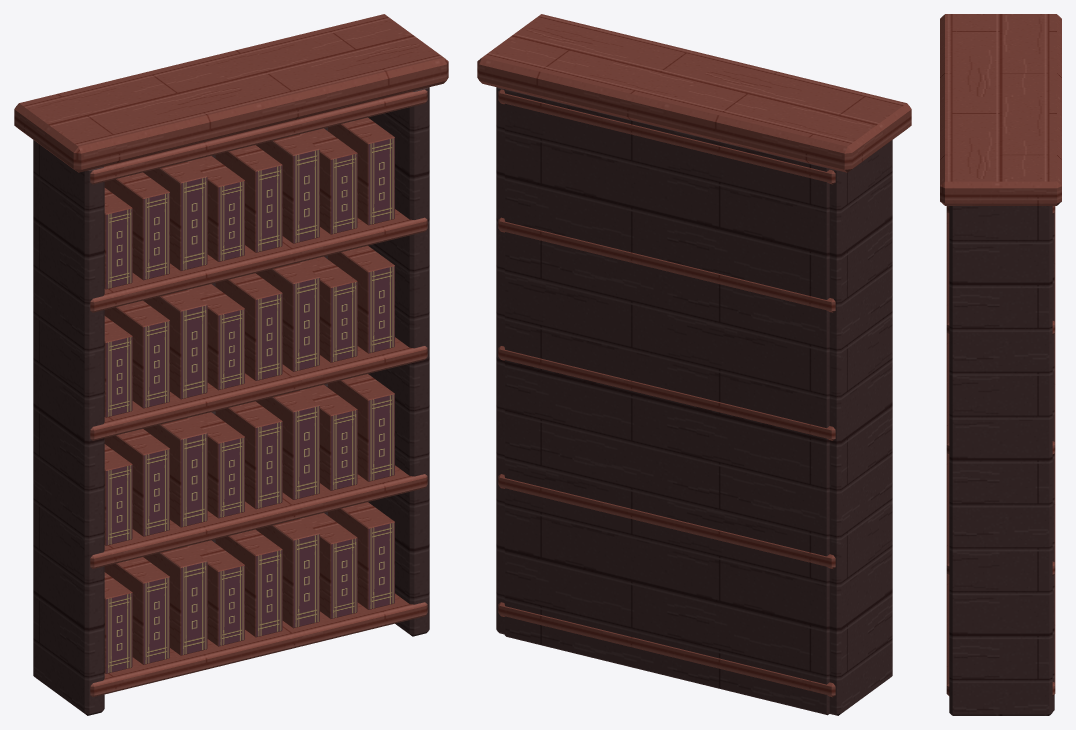
File: MD_29_Bookcase.fbx
The picture shows the model from 3 angles, left to right: view 1: azimuth 30°, elevation 25°; view 2: azimuth 150°, elevation 25°; view 3: azimuth 270°, elevation 25°; orthographic projection. The views are drawn at different scales.
Parts seen in each view (by area): view 1: MD_29_Bookcase_upright, MD_29_Bookcase_ornamental_crown, MD_29_Bookcase_upright.001, MD_29_Bookcase_shelf, MD_29_Bookcase_shelf.001, MD_29_Bookcase_shelf.002, MD_29_Bookcase_shelf.003, MD_29_Bookcase_shelf.004, MD_29_Bookcase_individual_book.012, MD_29_Bookcase_individual_book.004, MD_29_Bookcase_individual_book.020, MD_29_Bookcase_individual_book.028 (+28 smaller); view 2: MD_29_Bookcase_back, MD_29_Bookcase_upright, MD_29_Bookcase_ornamental_crown, MD_29_Bookcase_upright.001, MD_29_Bookcase_shelf.004, MD_29_Bookcase_shelf.001, MD_29_Bookcase_shelf, MD_29_Bookcase_shelf.003, MD_29_Bookcase_shelf.002; view 3: MD_29_Bookcase_upright.001, MD_29_Bookcase_ornamental_crown, MD_29_Bookcase_back, MD_29_Bookcase_shelf.001, MD_29_Bookcase_shelf, MD_29_Bookcase_shelf.002, MD_29_Bookcase_shelf.003.
Boxes of the visible parts, x1,y1,x2,y2 form: MD_29_Bookcase_upright: (33,140,104,715); MD_29_Bookcase_ornamental_crown: (14,14,448,172); MD_29_Bookcase_upright.001: (368,87,429,636); MD_29_Bookcase_shelf: (90,593,427,697); MD_29_Bookcase_shelf.001: (90,465,427,568); MD_29_Bookcase_shelf.002: (90,337,427,440); MD_29_Bookcase_shelf.003: (90,209,427,312); MD_29_Bookcase_shelf.004: (90,89,427,184); MD_29_Bookcase_individual_book.012: (215,401,282,509); MD_29_Bookcase_individual_book.004: (215,529,282,637); MD_29_Bookcase_individual_book.020: (215,273,282,380); MD_29_Bookcase_individual_book.028: (215,145,282,252); MD_29_Bookcase_back: (504,89,829,715); MD_29_Bookcase_upright: (829,140,892,715); MD_29_Bookcase_ornamental_crown: (477,14,911,172); MD_29_Bookcase_upright.001: (496,87,504,634); MD_29_Bookcase_shelf.004: (498,89,835,184); MD_29_Bookcase_shelf.001: (498,474,835,568); MD_29_Bookcase_shelf: (498,602,835,697); MD_29_Bookcase_shelf.003: (498,217,835,312); MD_29_Bookcase_shelf.002: (498,346,835,440); MD_29_Bookcase_upright.001: (949,206,1052,715); MD_29_Bookcase_ornamental_crown: (940,14,1061,205); MD_29_Bookcase_back: (1052,213,1054,711); MD_29_Bookcase_shelf.001: (946,453,1055,575); MD_29_Bookcase_shelf: (946,574,1055,695); MD_29_Bookcase_shelf.002: (946,333,1055,454); MD_29_Bookcase_shelf.003: (946,213,1055,334).
Bounding box in the file's own units: 1.5 × 2.2 × 0.45.
Materials: 3 (3 with a texture image).
